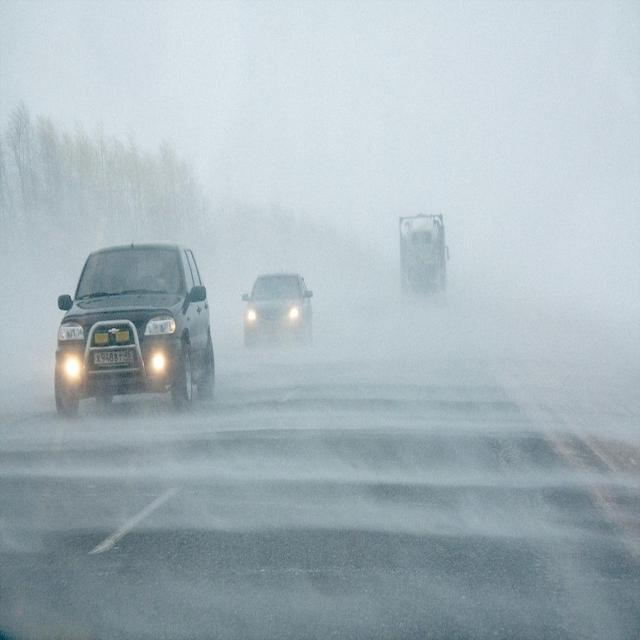Car: (49, 236, 219, 414), (240, 265, 315, 351)
Truck: (397, 215, 452, 319)
